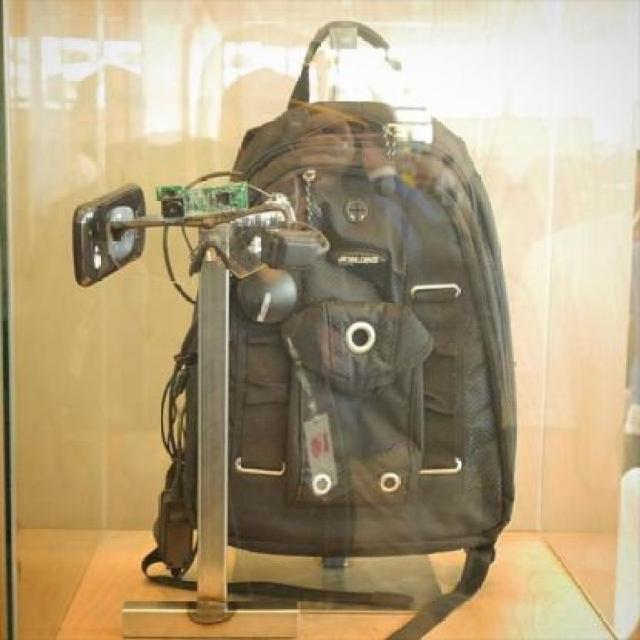backpack: (150, 76, 524, 618)
